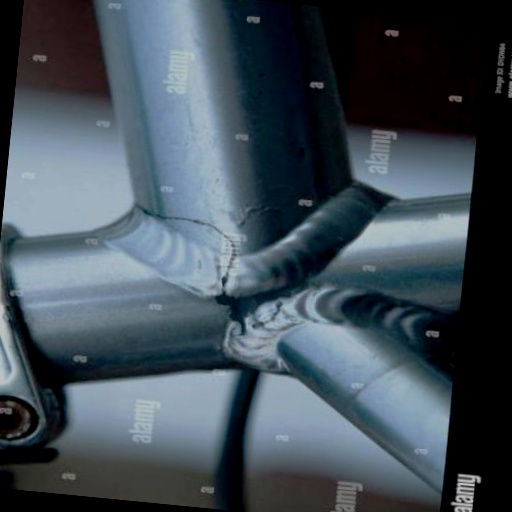crack: (127, 200, 245, 309)
